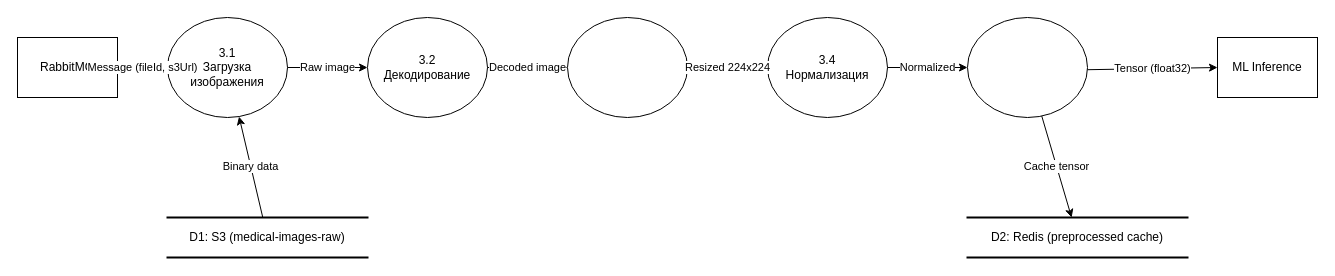
Image size: 1335x276. Some labels were removed from this diagram. The shapes that lost their labels are listed below. From the top down, each one's centre as x and y in pixels, then its label:
At (x=627, y=67): "3.3 Изменение размера".
At (x=1027, y=67): "3.5 Конверт в тензор".
